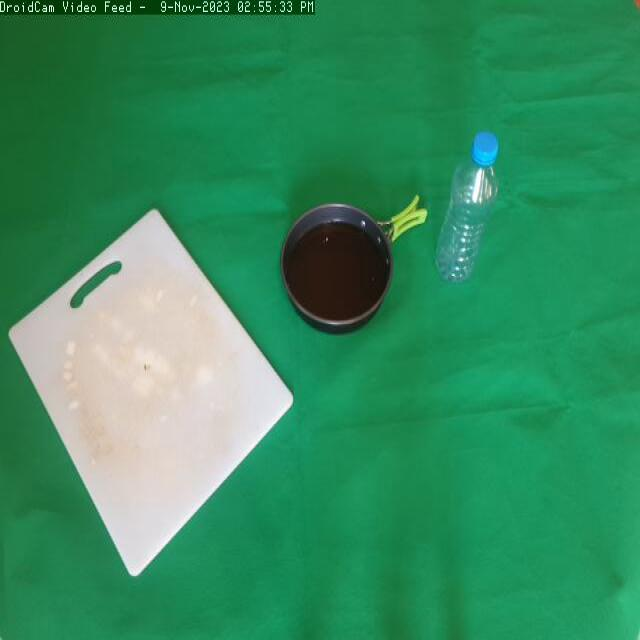bottle: (434, 99, 504, 308)
cutting board: (6, 204, 296, 586)
fullpan: (270, 183, 434, 346)
